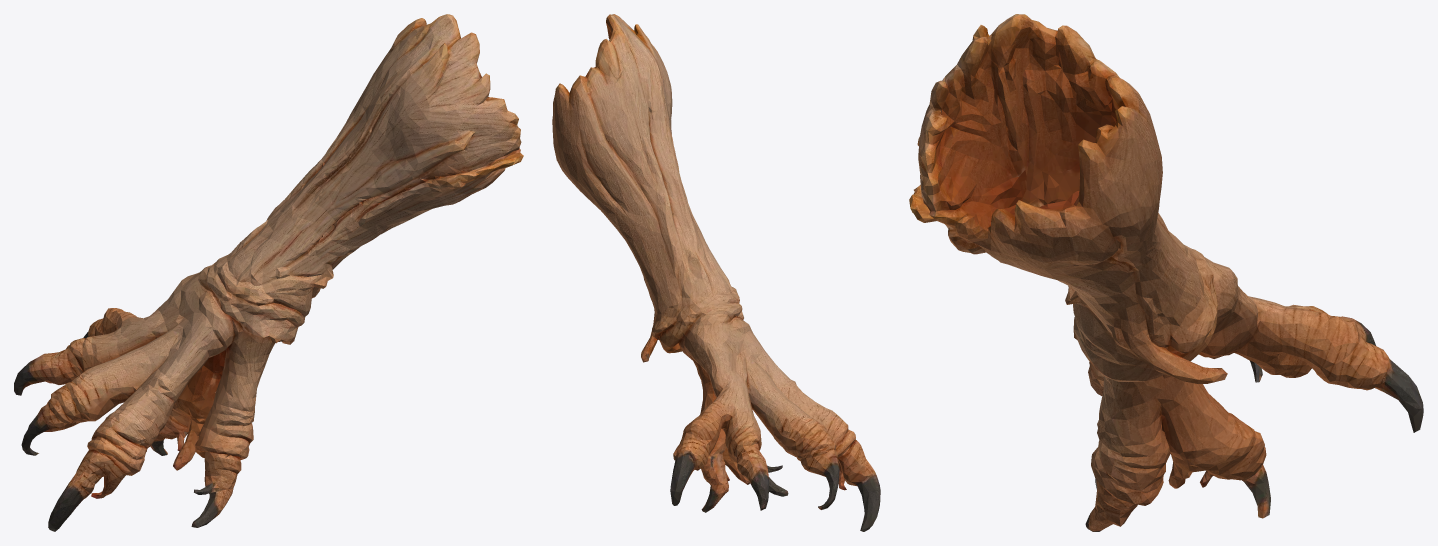
Rendered from foot (27).glb.
The picture shows the model from 3 angles, left to right: view 1: azimuth 30°, elevation 25°; view 2: azimuth 150°, elevation 25°; view 3: azimuth 270°, elevation 25°; orthographic projection. The views are drawn at different scales.
Visible parts, largest first — view 1: Hy21_Mesh.obj; view 2: Hy21_Mesh.obj; view 3: Hy21_Mesh.obj.
Boxes of the visible parts, x1,y1,x2,y2 form: Hy21_Mesh.obj: (14,14,523,531); Hy21_Mesh.obj: (552,14,880,531); Hy21_Mesh.obj: (909,14,1423,531).
Bounding box in the file's own units: 1.74 × 1.96 × 1.37.
Materials: 1 (1 with a texture image).
